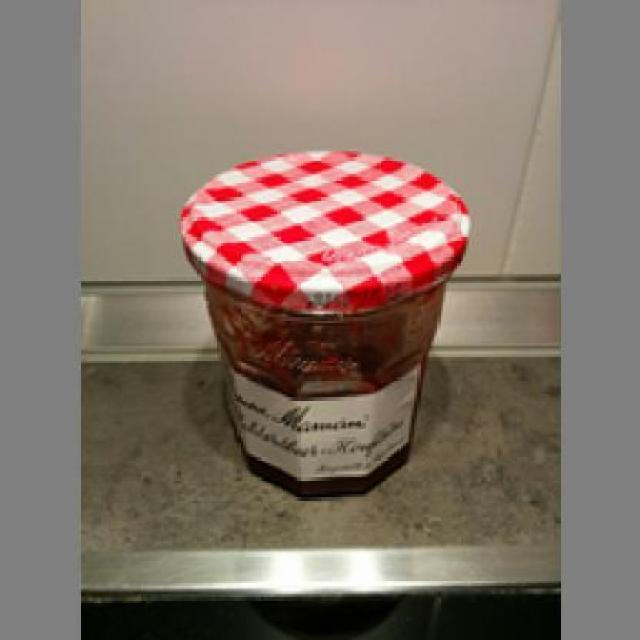Jam: (174, 142, 472, 498)
